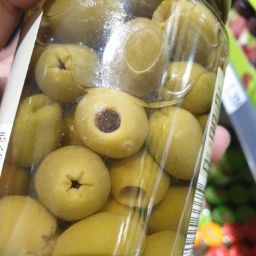Olives: (22, 10, 226, 253), (52, 5, 203, 256), (24, 142, 116, 218), (67, 81, 151, 161), (1, 64, 35, 256), (67, 204, 191, 256), (98, 19, 174, 95), (145, 101, 202, 192), (13, 91, 73, 170), (113, 145, 172, 222), (3, 195, 58, 256), (40, 42, 95, 102)
